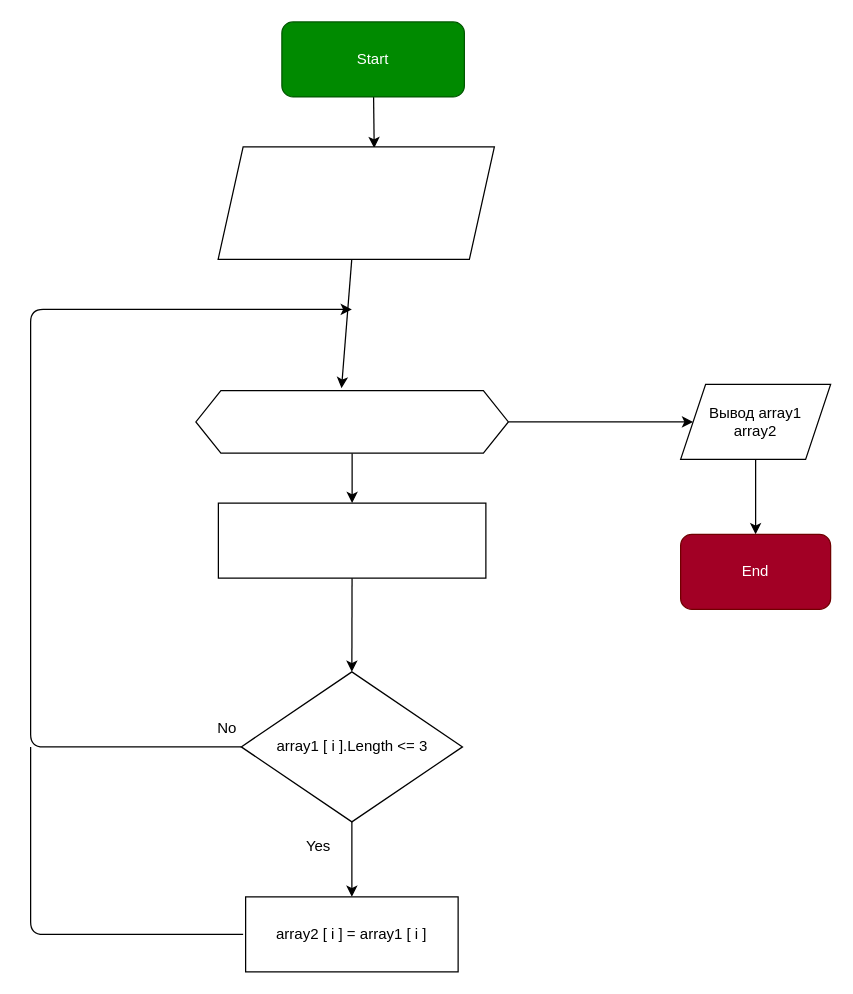
This 853x994 diagram has some shape labels left out. The centre of each missing label's shape, as x and y in pixels:
array1 [ i ] = Console.ReadLine(): pixel 351 540
i = 0, l: pixel 351 421
l = int.Parse(Console.ReadLine()) string [ ] array1 = 0 string [ ] array2 = 0: pixel 355 202
